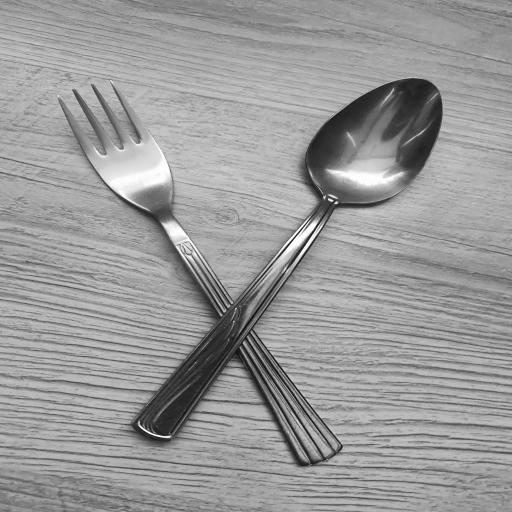fork: (53, 79, 349, 462)
spoon: (130, 70, 448, 444)
